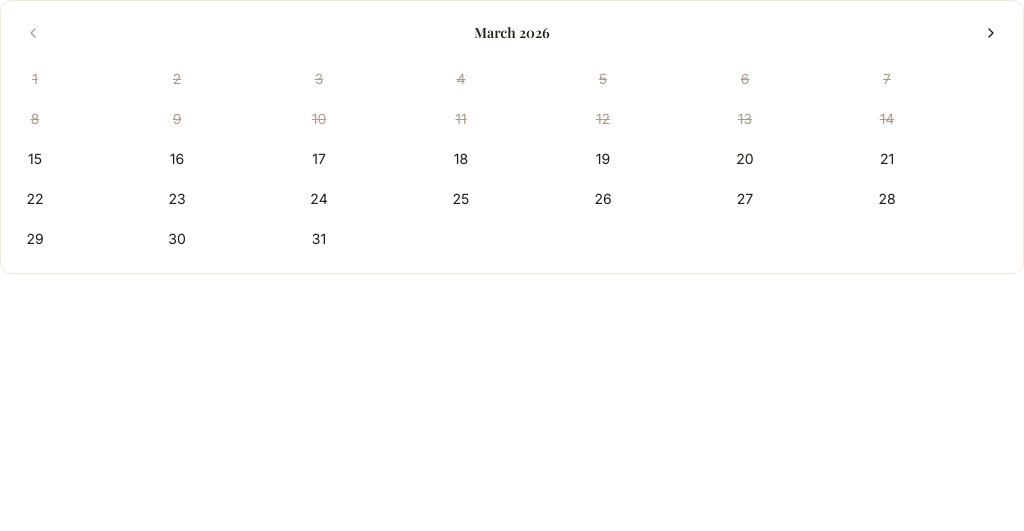
Test case: DateTimePicker › disables an hour already passed today once that date is selected
Click the button "15" at (35, 159), box [17,141,53,177]
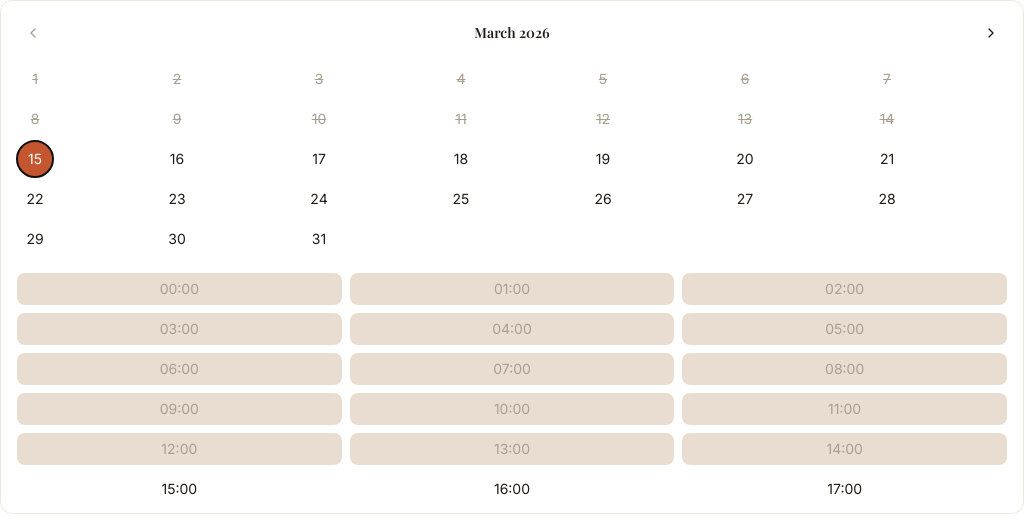
Expected: the button "10:00" is disabled, [350,393,674,425]
Expected: the button "16:00" is enabled, [350,473,674,497]
